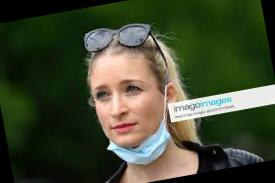mask_weared_incorrect: (91, 70, 172, 161)
